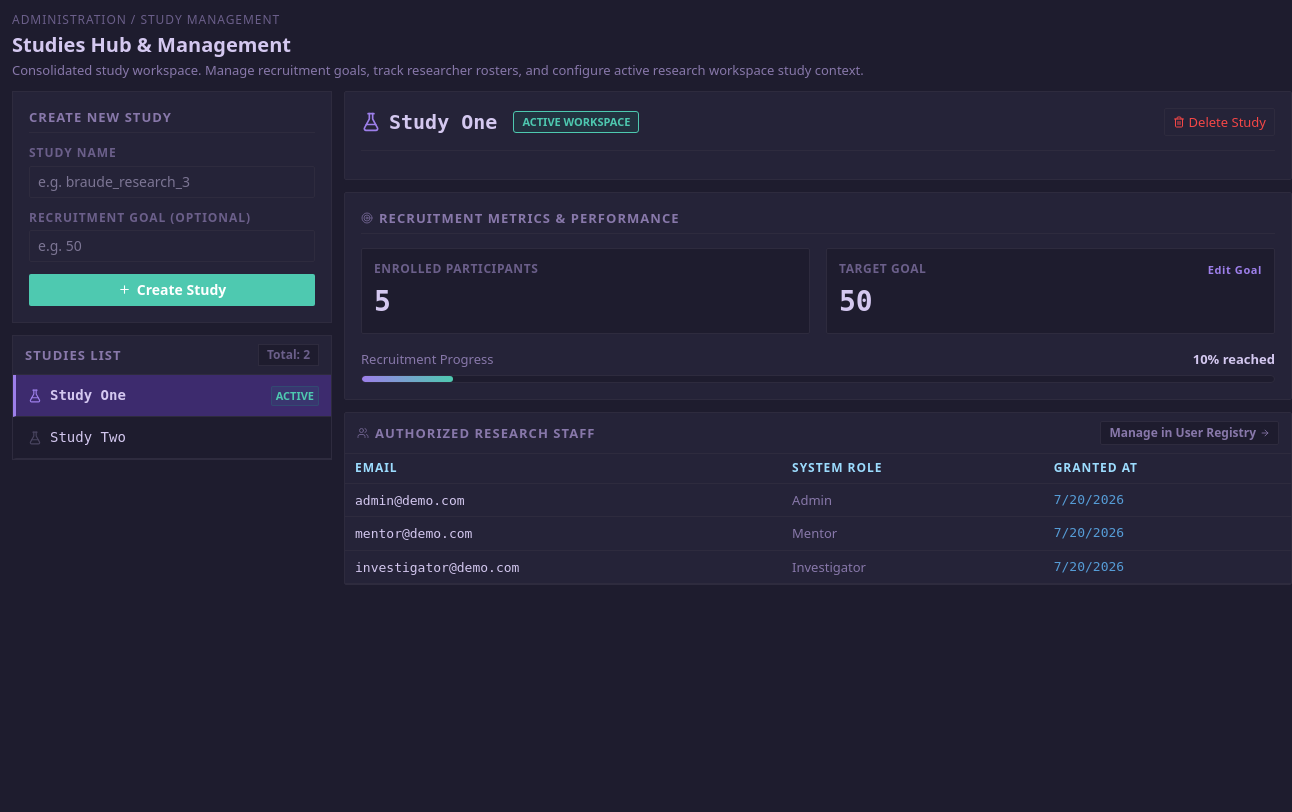
StudyManagement › clicking a different study in the list switches the dashboard to it
Expected: the text "Recruitment Progress" is shown, [361,350,493,368]
Click the text "Study Two": (88, 438) [50,428,126,448]
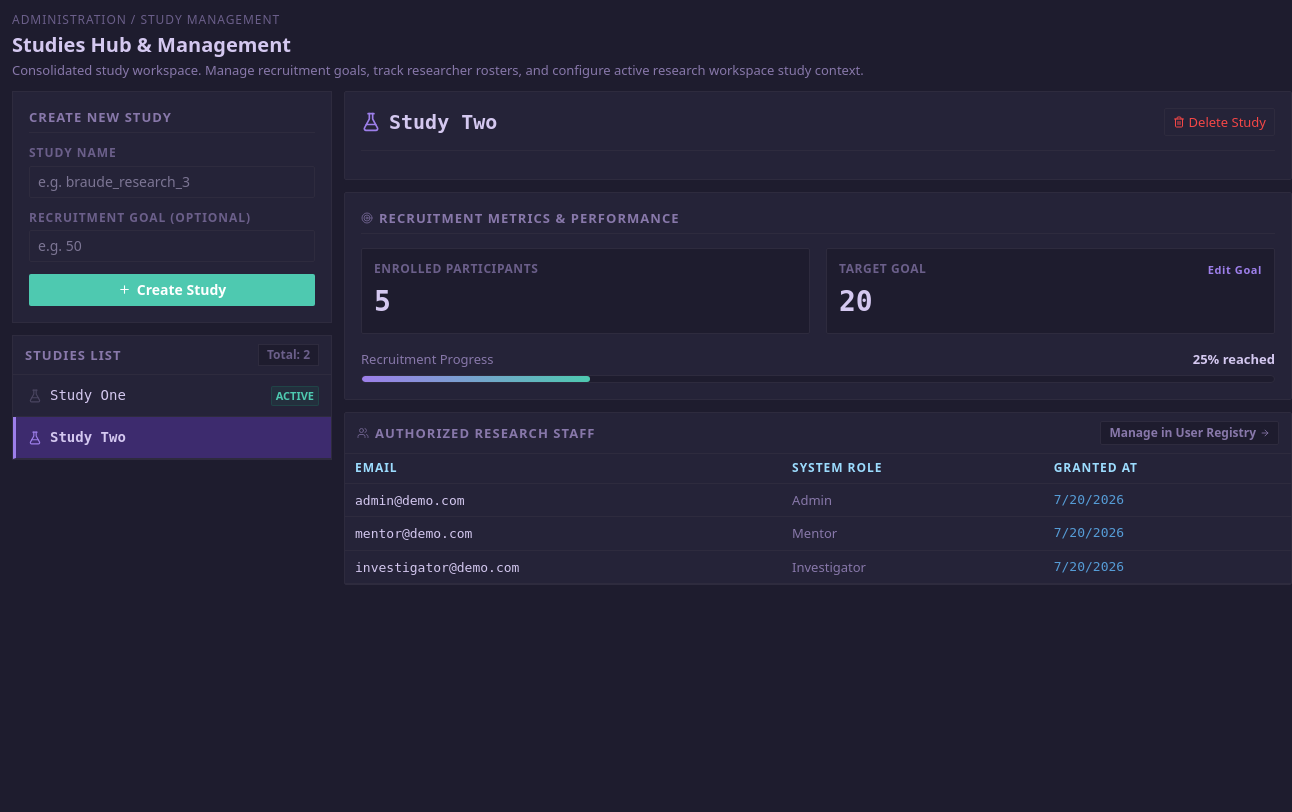
Now the text "Active Workspace" is gone
